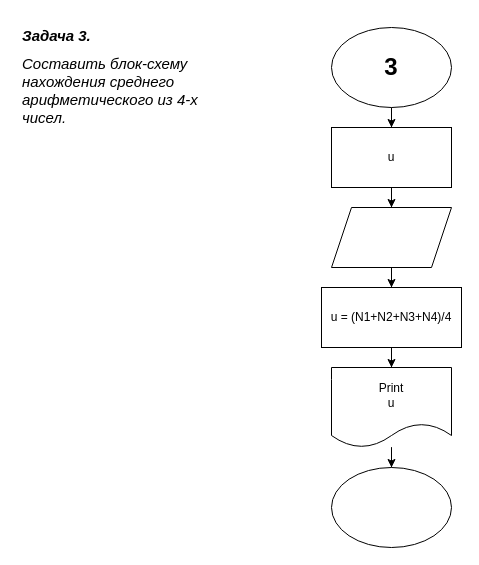
Image size: 479x565. Some labels were removed from this diagram. The centre of each missing label's shape, as x and y in pixels:
"End" belongs at (391,507).
"N1, N2, N3, N4" belongs at (391,237).
